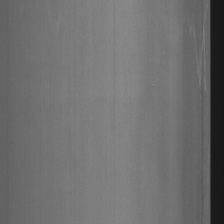silk_spot: (185, 17, 208, 105)
